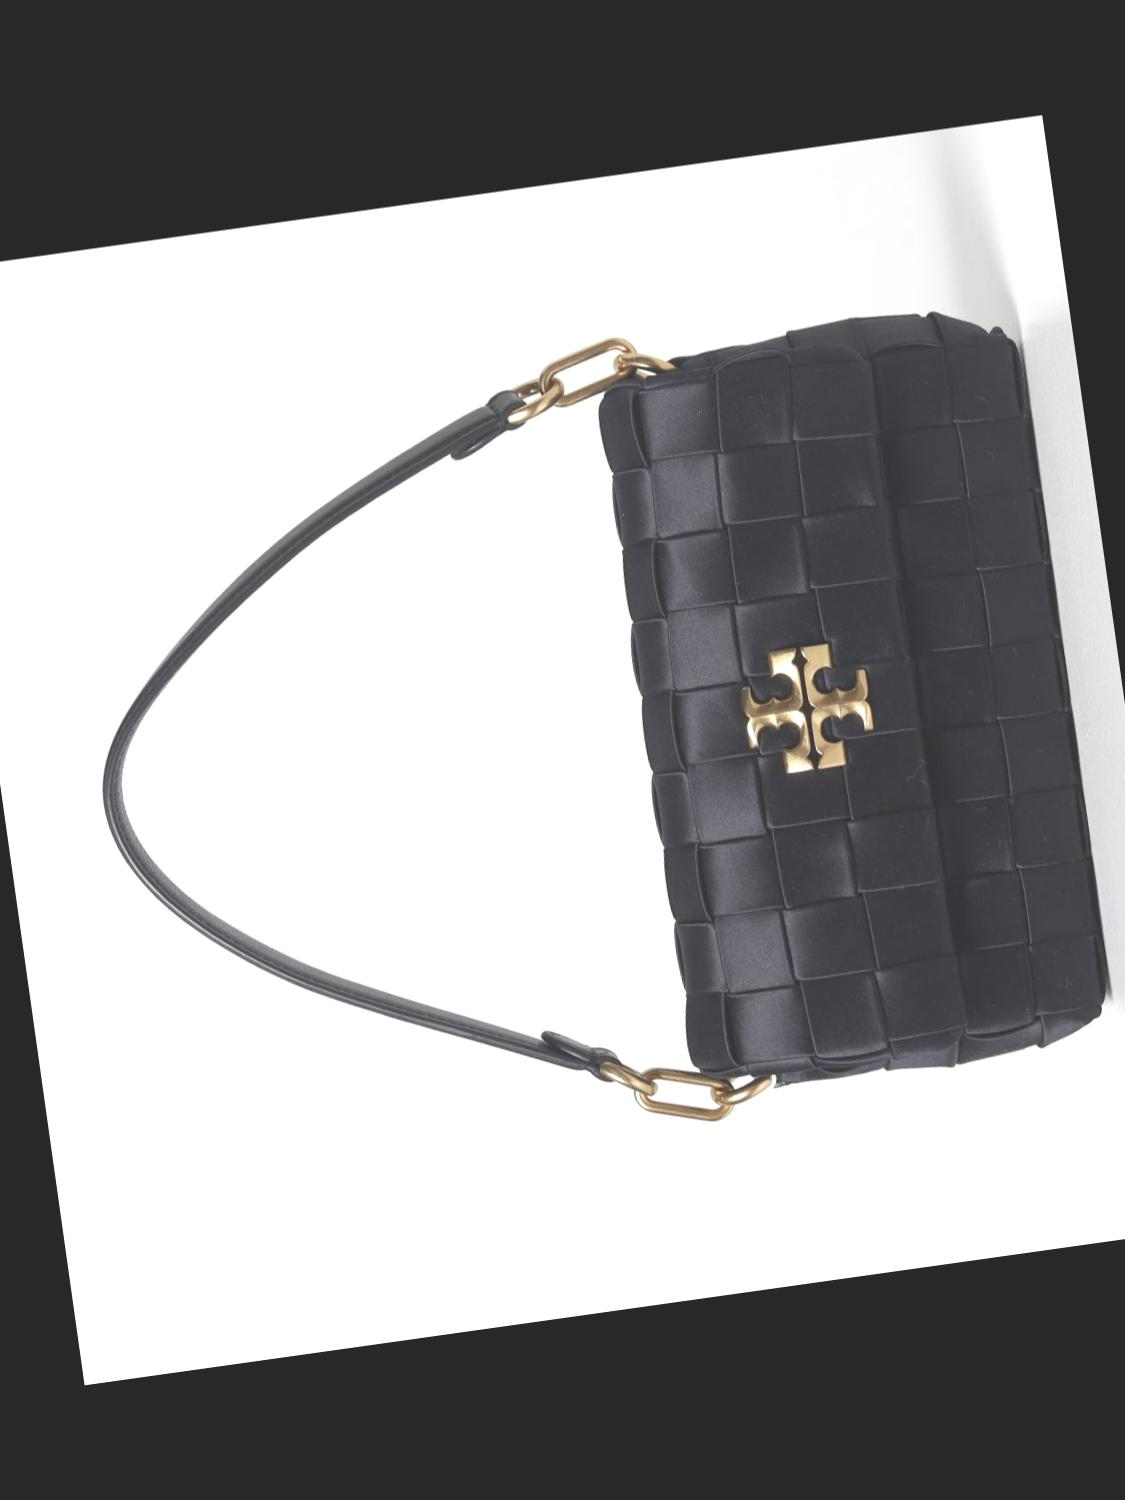TORY-BURCH: (735, 637, 878, 778)
